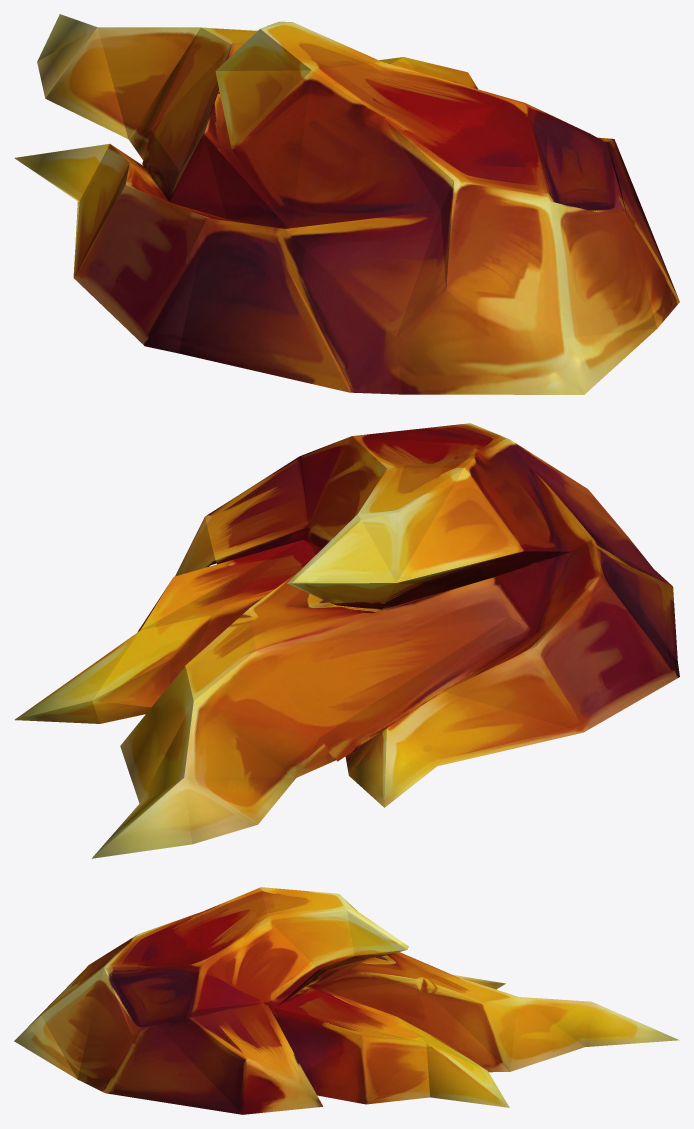
File: FireCrystal.fbx
3 views of the same model, one above another, from view 1: azimuth 30°, elevation 25°; view 2: azimuth 150°, elevation 25°; view 3: azimuth 270°, elevation 25° (orthographic). The views are drawn at different scales.
Parts seen in each view (by area): view 1: FireCrystal; view 2: FireCrystal; view 3: FireCrystal.
Part boxes in pixels (box(x1,y1,x2,y2)): FireCrystal: box(14, 14, 679, 394); FireCrystal: box(14, 423, 679, 858); FireCrystal: box(14, 887, 679, 1114).
Size of the model in its own units: 0.32 by 0.56 by 0.12.
1 material, 1 textured.
